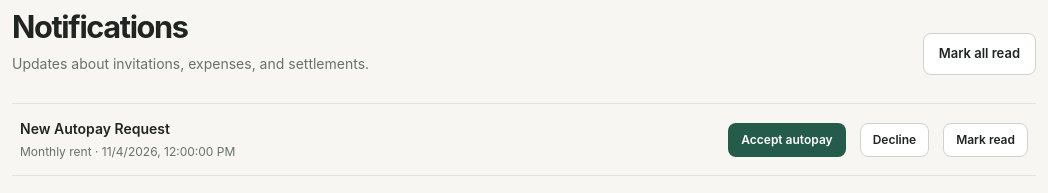
Test case: account settings and expense details › removes autopay response actions after accepting from a notification
Click the button "Accept autopay": (787, 140) [728,122,846,156]
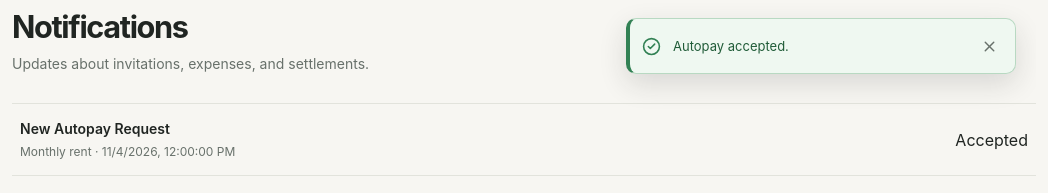
expect the text "Accepted" is shown: met, box [955,128,1028,152]
expect the button "Accept autopay" is gone: met
expect the button "Decline" is gone: met
